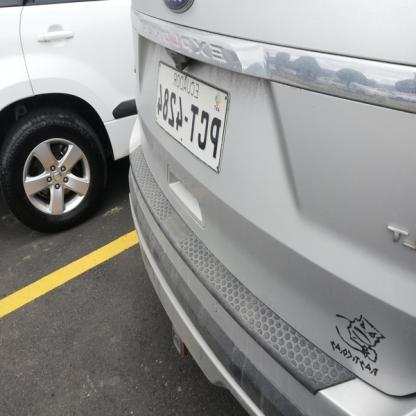Placa: (148, 57, 238, 154)
